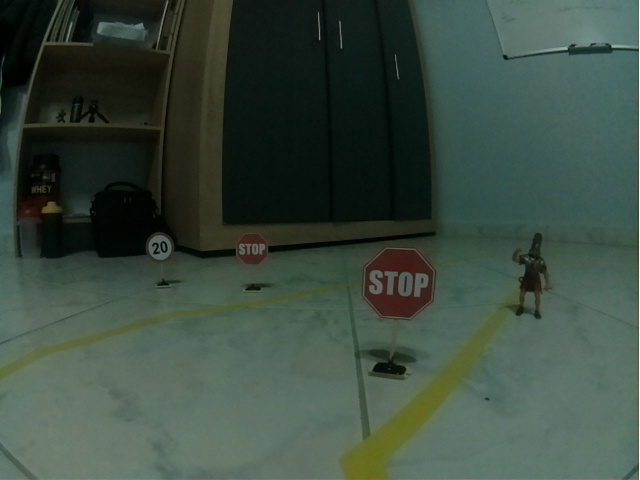Person: (511, 233, 553, 320)
Speed Limit 20: (146, 232, 175, 263)
Stop: (362, 247, 436, 322), (236, 232, 268, 266)
